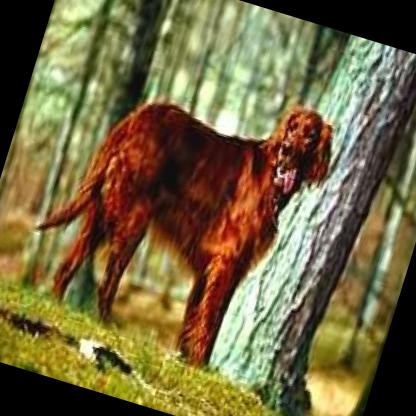Irish_setter: (0, 35, 344, 390)
